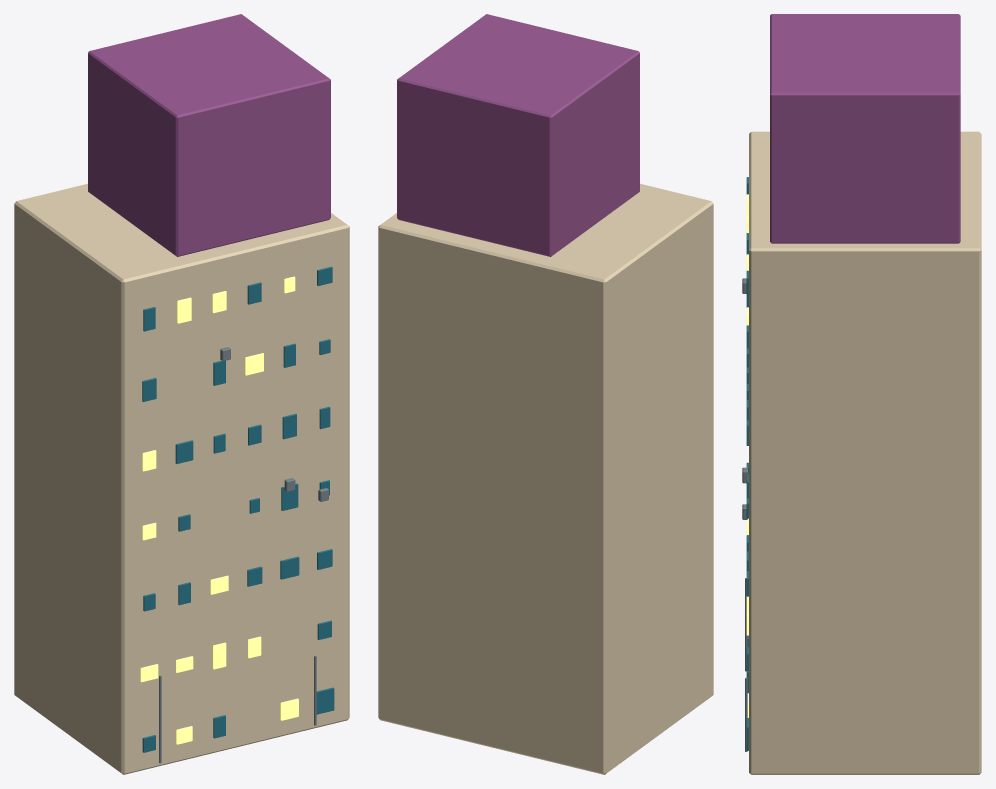
Rendered from building_036_seed11.glb.
3 views of the same model, side by side, from view 1: azimuth 30°, elevation 25°; view 2: azimuth 150°, elevation 25°; view 3: azimuth 270°, elevation 25° (orthographic). The views are drawn at different scales.
Visible parts, largest first — view 1: building_036_seed11; view 2: building_036_seed11; view 3: building_036_seed11.
Boxes of the visible parts, <box> form: building_036_seed11: <box>14,14,349,774</box>; building_036_seed11: <box>378,14,713,774</box>; building_036_seed11: <box>742,14,981,774</box>.
Size of the model in its own units: 9.05 by 24.16 by 7.73.
